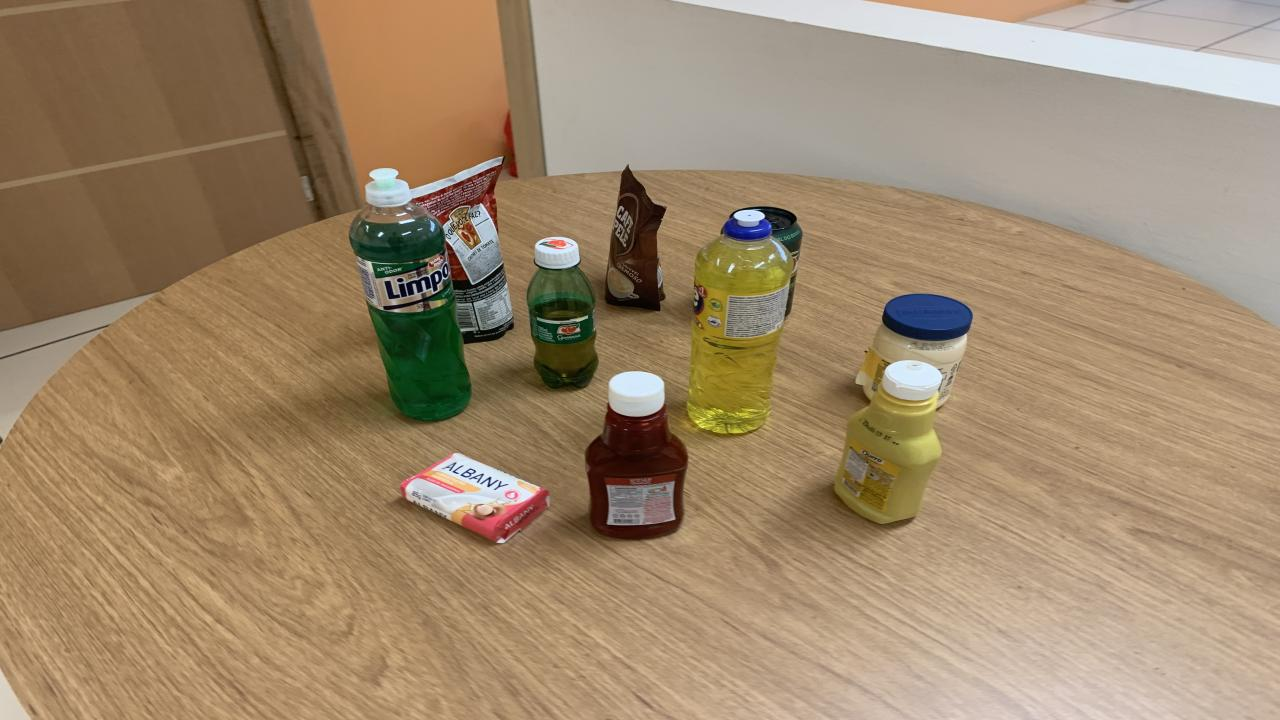Coffee-Pantry_Items: (605, 167, 665, 311)
Detergent-Cleanup_Items: (350, 169, 470, 422), (688, 210, 792, 433)
Guarana-Drinks: (528, 236, 598, 388)
Guarana_Can-Drinks: (750, 206, 802, 315)
Ketchup-Pantry_Items: (585, 371, 688, 538)
Mayonnaise-Pantry_Items: (855, 294, 972, 405)
Mustard-Pantry_Items: (835, 360, 942, 523)
Soap-Cleanup_Items: (400, 454, 550, 544)
Tomato_Sauce-Pantry_Items: (410, 158, 512, 343)
